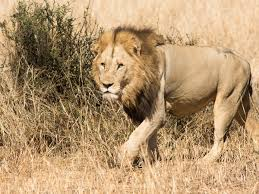lion: (83, 16, 251, 161)
